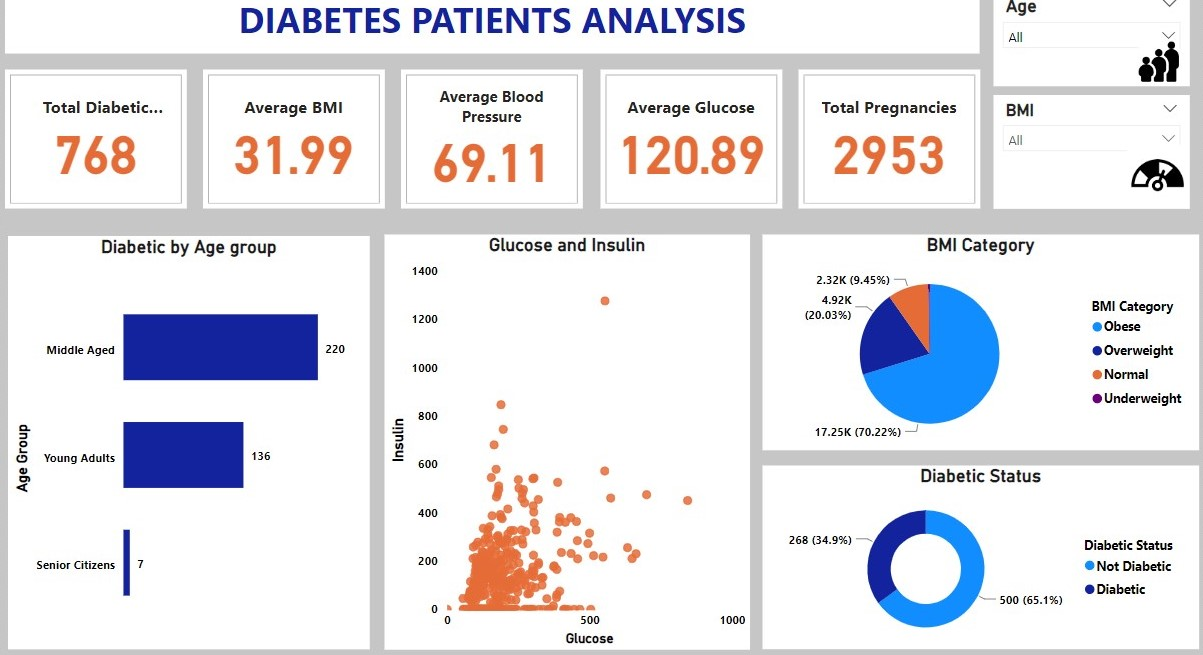

Layout of this report page (visuals, bound fields, positions):
{"tool":"powerbi","page":{"name":"Page 1","canvas":[1280,720],"ordinal":0},"visuals":[{"type":"textbox","box":[9.5,12.7,1033.1,54],"z":0},{"type":"cardVisual","fields":{"Data":["CountNonNull(diabetes.DiabetesPedigreeFunction)"]},"box":[9.4,85,192.6,147.3],"z":1000},{"type":"cardVisual","fields":{"Data":["Avg(diabetes.BMI)"]},"box":[219,85,192.6,147.3],"z":2000},{"type":"cardVisual","fields":{"Data":["Avg(diabetes.BloodPressure)"]},"box":[428.6,85,192.6,147.3],"z":3000},{"type":"cardVisual","fields":{"Data":["Avg(diabetes.Glucose)"]},"box":[640,85,192.6,147.3],"z":4000},{"type":"cardVisual","fields":{"Data":["Sum(diabetes.Pregnancies)"]},"box":[849.6,85,192.6,147.3],"z":5000},{"type":"slicer","fields":{"Values":["diabetes.Age"]},"box":[1057,12.7,208.2,89],"z":6000},{"type":"slicer","fields":{"Values":["diabetes.BMI"]},"box":[1057,111.3,208.2,120.8],"z":7000},{"type":"pieChart","title":"BMI Category","fields":{"Category":["diabetes.BMI Category"],"Y":["Sum(diabetes.BMI)"]},"box":[811.8,258.6,462.5,228.4],"z":8000},{"type":"donutChart","title":"Diabetic Status","fields":{"Category":["diabetes.Diabetic Status"],"Y":["CountNonNull(diabetes.Outcome)"]},"box":[811.8,504.1,462.5,194.5],"z":9000},{"type":"clusteredBarChart","title":"Diabetic by Age group","fields":{"Category":["diabetes.Age Group"],"Y":["Sum(diabetes.DiabetesPedigreeFunction)"]},"box":[13.2,260.5,383.2,438],"z":10000},{"type":"scatterChart","title":"Glucose and Insulin","fields":{"X":["Sum(diabetes.Glucose)"],"Y":["Sum(diabetes.Insulin)"],"Category":["diabetes.DiabetesPedigreeFunction"]},"box":[411.6,258.6,387,439.9],"z":11000},{"type":"image","box":[1183.7,49.1,96.3,52.9],"z":12000},{"type":"image","box":[1188.7,158.4,83.8,74.5],"z":13000}]}

Visuals, with their boxes on the page's 1280x720 design canvas (x1, y1, x2, y2). These are canvas units, not pixel positions in the 1203x655 screenshot, which may show the page scaled, cropped or inside an application window:
textbox: (10,13,1043,67)
cardVisual - CountNonNull(diabetes.DiabetesPedigreeFunction): (9,85,202,232)
cardVisual - Avg(diabetes.BMI): (219,85,412,232)
cardVisual - Avg(diabetes.BloodPressure): (429,85,621,232)
cardVisual - Avg(diabetes.Glucose): (640,85,833,232)
cardVisual - Sum(diabetes.Pregnancies): (850,85,1042,232)
slicer - diabetes.Age: (1057,13,1265,102)
slicer - diabetes.BMI: (1057,111,1265,232)
"BMI Category" pieChart: (812,259,1274,487)
"Diabetic Status" donutChart: (812,504,1274,699)
"Diabetic by Age group" clusteredBarChart: (13,260,396,698)
"Glucose and Insulin" scatterChart: (412,259,799,698)
image: (1184,49,1280,102)
image: (1189,158,1272,233)
